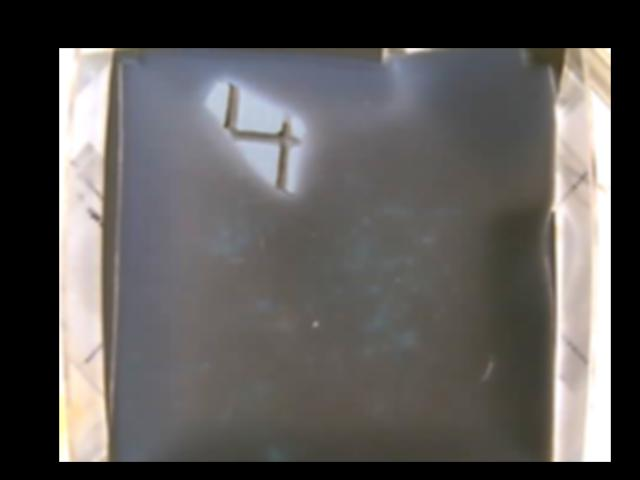China: (206, 80, 303, 198)
